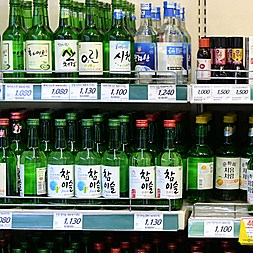soju: (0, 105, 253, 211), (1, 0, 135, 79)
